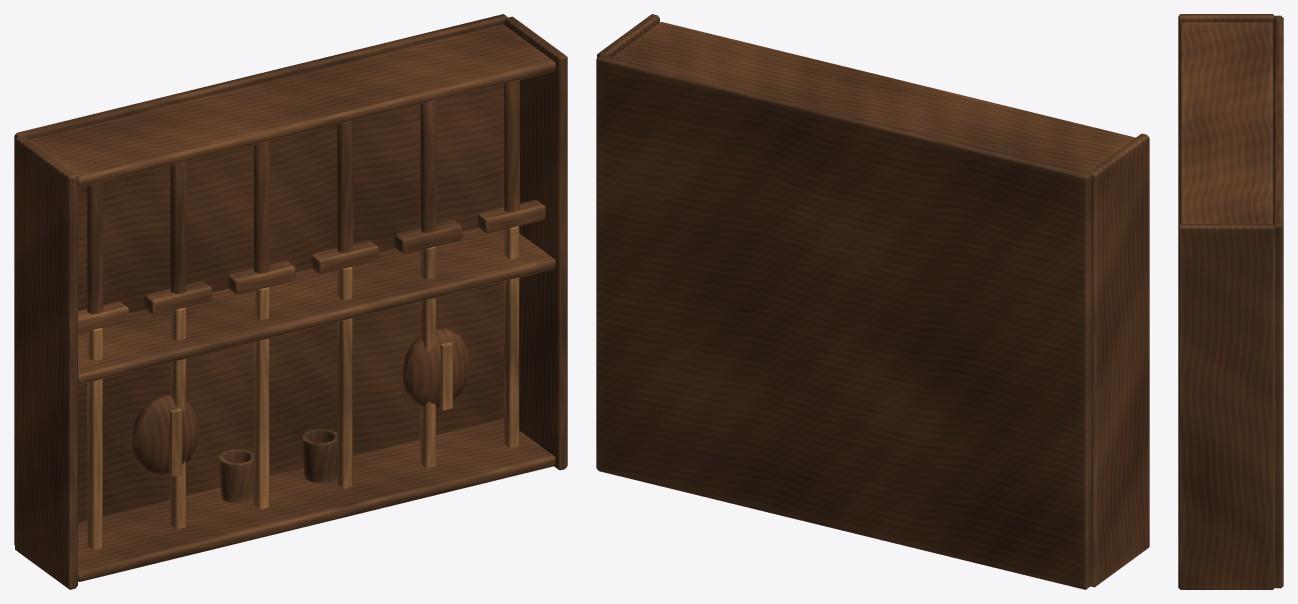
The model's file is Furn_Sword_Rack.fbx.
The picture shows the model from 3 angles, left to right: view 1: azimuth 30°, elevation 25°; view 2: azimuth 150°, elevation 25°; view 3: azimuth 270°, elevation 25°; orthographic projection. The views are drawn at different scales.
Visible parts, largest first — view 1: Furn_Sword_Rack; view 2: Furn_Sword_Rack; view 3: Furn_Sword_Rack.
Part boxes in pixels (box(x1,y1,x2,y2)): Furn_Sword_Rack: box(14, 14, 567, 589); Furn_Sword_Rack: box(596, 14, 1149, 589); Furn_Sword_Rack: box(1178, 14, 1283, 589).
Bounding box in the file's own units: 2.4 × 1.9 × 0.5.
Materials: 2 (2 with a texture image).
